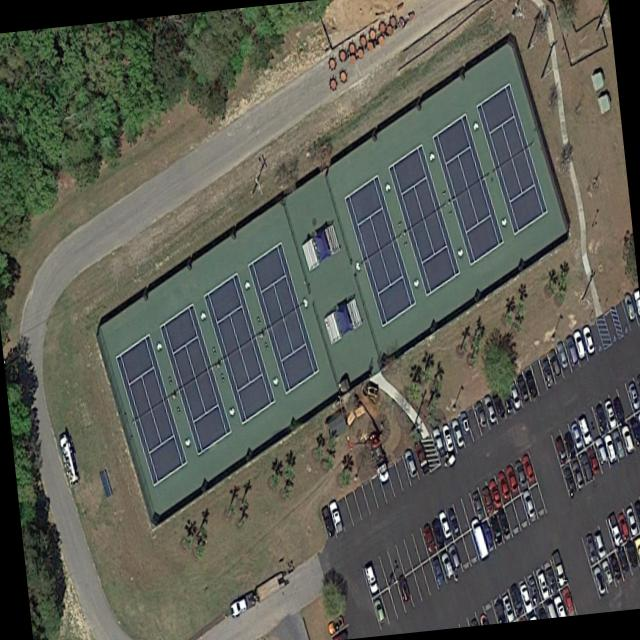large-vehicle: (228, 567, 285, 619)
small-vehicle: (548, 549, 566, 587), (604, 511, 622, 548), (412, 439, 429, 477), (327, 499, 343, 536), (609, 427, 626, 460), (576, 414, 592, 449), (318, 503, 334, 538), (362, 561, 378, 595), (495, 468, 511, 502), (420, 522, 436, 556), (618, 421, 634, 454), (623, 538, 639, 571), (478, 518, 494, 551), (560, 465, 576, 497), (591, 402, 607, 434), (487, 477, 502, 511), (488, 513, 503, 546), (517, 582, 532, 615), (534, 568, 549, 601), (563, 333, 578, 365), (430, 425, 445, 457), (436, 508, 451, 540), (602, 432, 617, 464), (601, 398, 616, 430), (520, 488, 535, 520), (522, 367, 537, 399), (610, 394, 625, 426), (591, 564, 606, 596), (525, 575, 540, 607), (482, 393, 497, 424), (470, 491, 485, 522), (569, 459, 584, 490), (512, 460, 527, 491), (559, 584, 574, 615), (430, 557, 445, 588), (577, 452, 593, 481), (504, 463, 518, 496), (520, 452, 534, 485), (546, 350, 561, 380), (495, 507, 510, 537), (607, 552, 622, 582), (614, 544, 629, 574), (571, 328, 585, 360), (626, 381, 640, 413), (509, 585, 523, 617), (584, 446, 599, 475), (490, 390, 505, 419), (450, 418, 464, 449), (440, 423, 454, 454), (439, 549, 453, 580), (480, 484, 494, 515), (580, 324, 594, 355), (568, 420, 582, 451), (539, 356, 553, 387), (583, 534, 597, 565), (402, 448, 416, 478), (554, 339, 568, 369), (543, 565, 557, 595), (326, 613, 344, 636), (507, 380, 521, 409), (593, 436, 607, 465), (591, 530, 605, 559), (622, 291, 635, 322), (473, 401, 487, 429), (395, 573, 409, 601), (616, 512, 629, 542), (446, 543, 460, 570), (553, 435, 566, 464), (430, 517, 443, 546), (515, 373, 528, 402), (371, 595, 384, 623), (446, 508, 459, 536), (600, 557, 613, 585), (628, 415, 640, 445), (563, 431, 576, 458), (625, 506, 637, 535), (457, 410, 469, 435), (631, 497, 640, 530), (632, 534, 640, 567), (634, 374, 640, 400), (635, 411, 640, 430)
